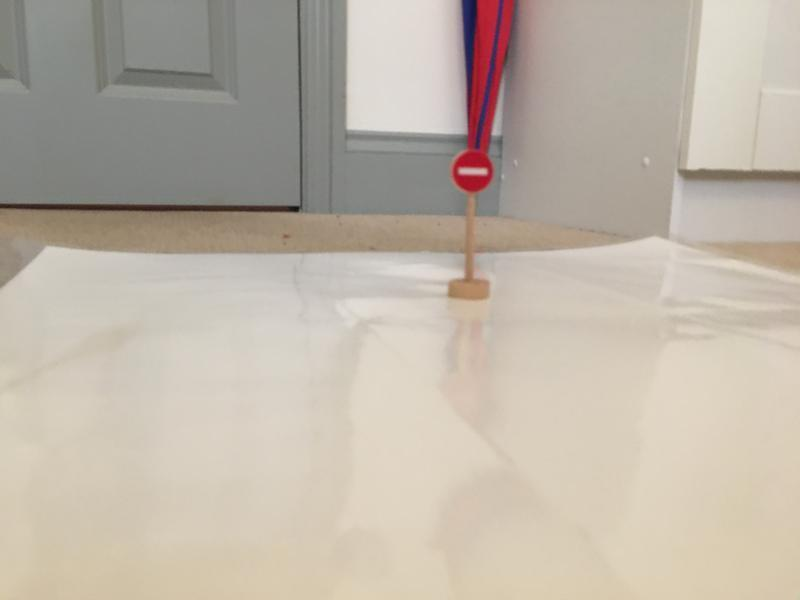Traffic_Sign_No_Entry: (453, 150, 493, 191)
